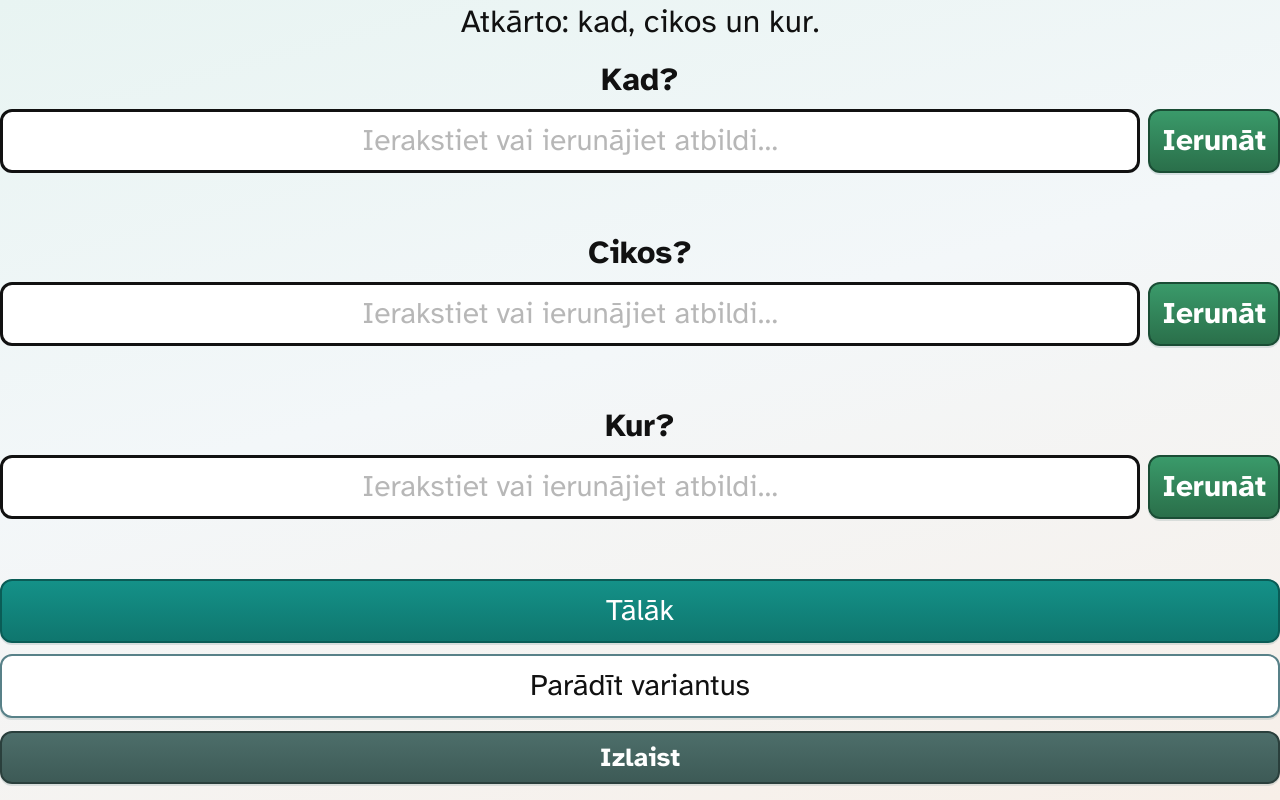
Test case: memory appointment answers › shows the expected answers after Pārbaudīt on the first recall
The image size is (1280, 800).
In the field labelled "Kad?": (570, 141) [0,109,1140,173], type "Otrdien"
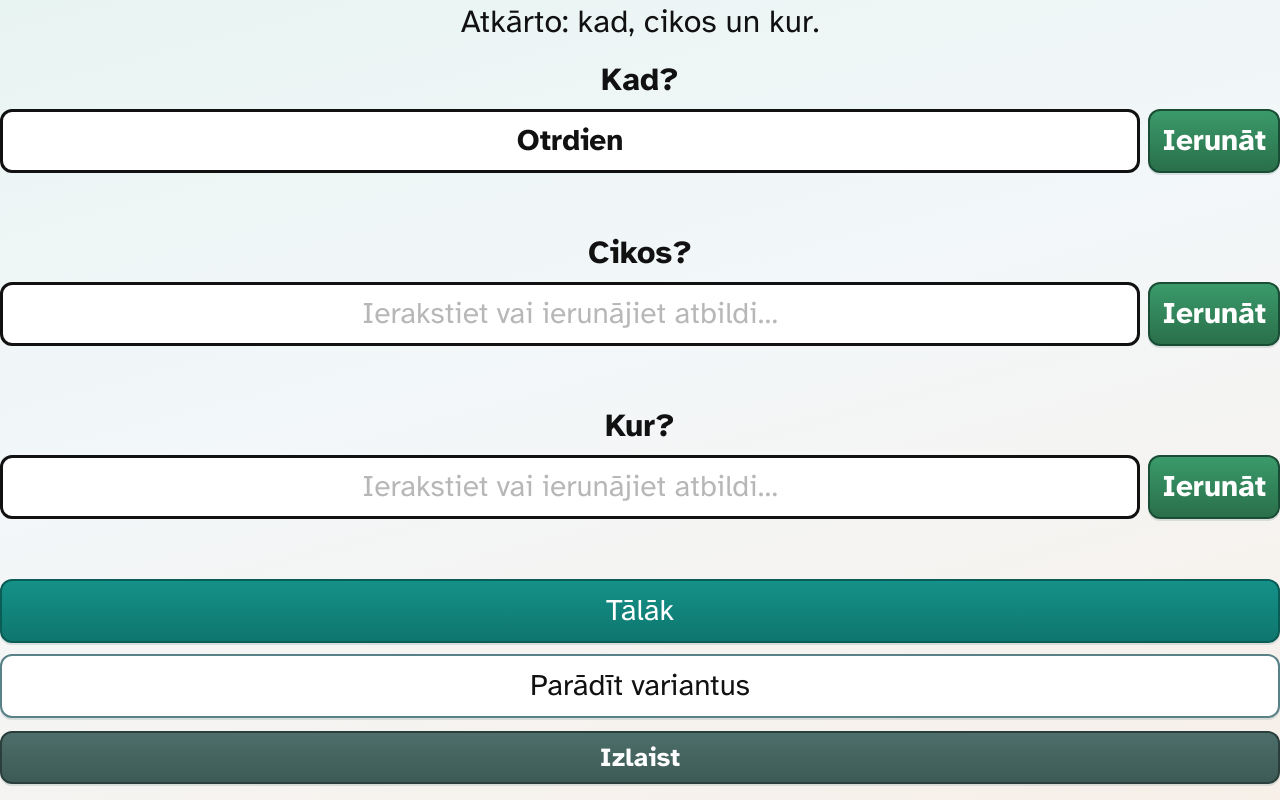
In the field labelled "Cikos?": (570, 314) [0,282,1140,346], type "10:00"
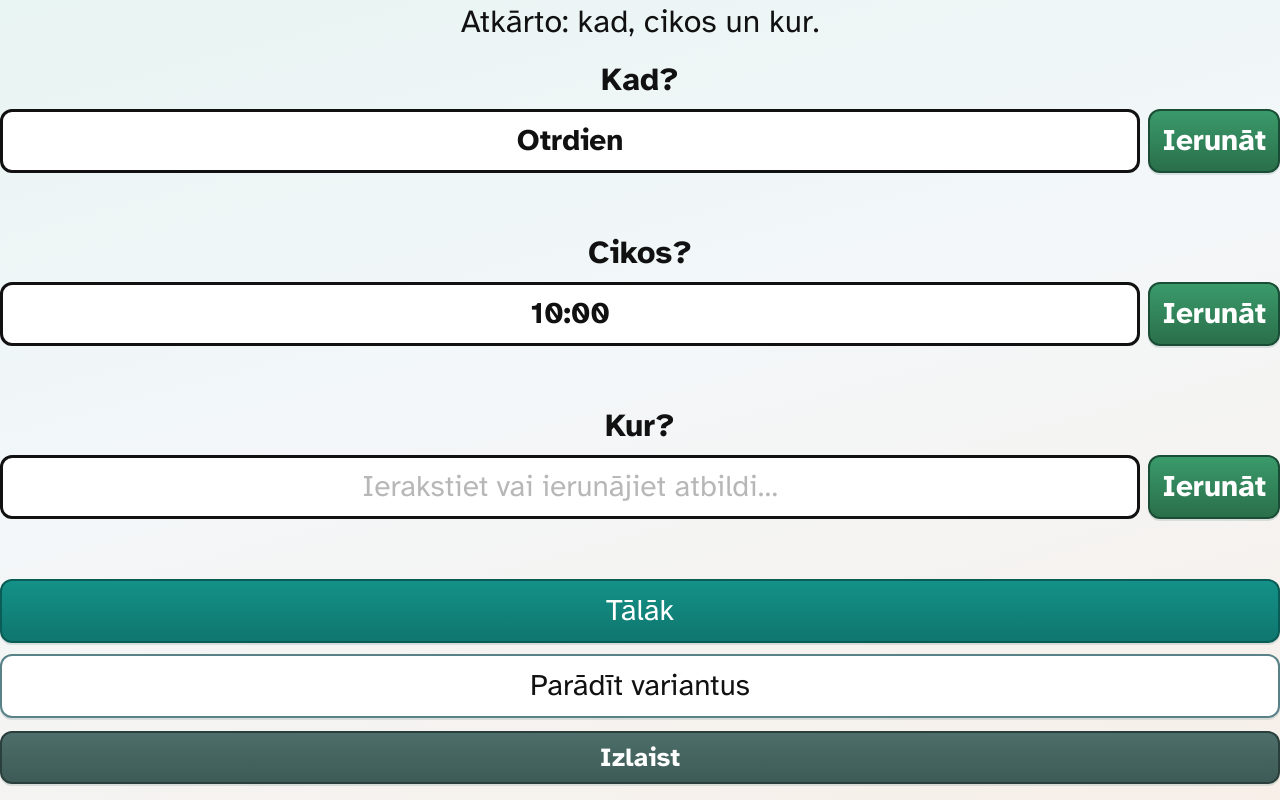
In the field labelled "Kur?": (570, 487) [0,455,1140,519], type "bibliotēkā"
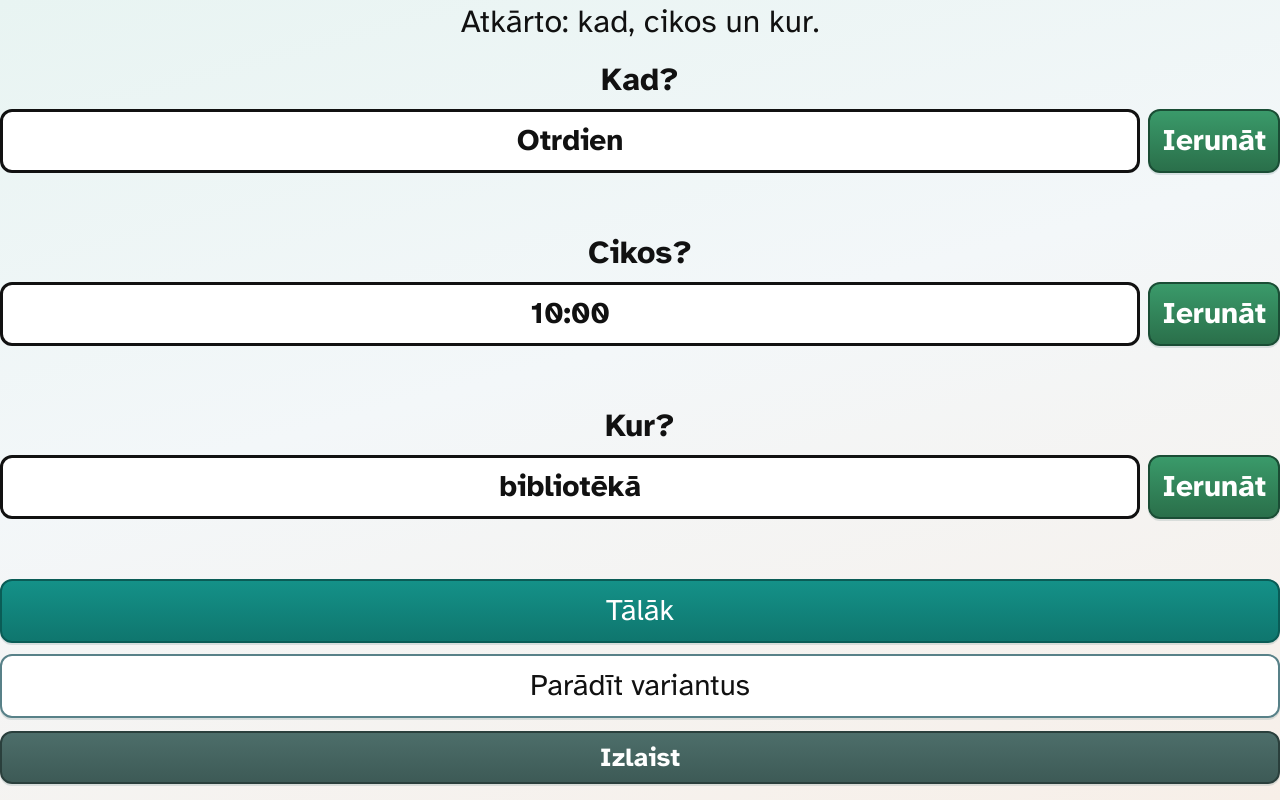
Focus the field labelled "Kur?": (570, 487) [0,455,1140,519]
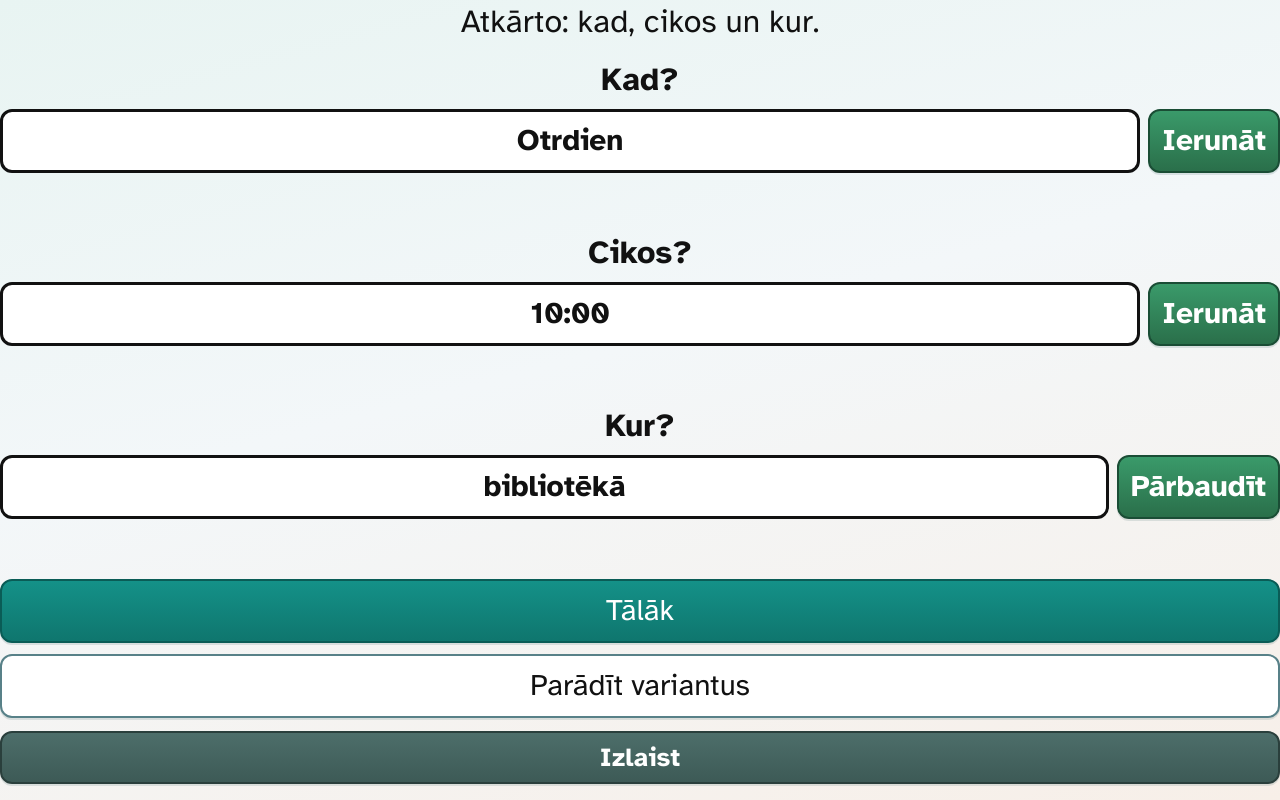
Click the button with aria-label "Pārbaudīt atbildi": (1198, 487) [1117,455,1279,519]
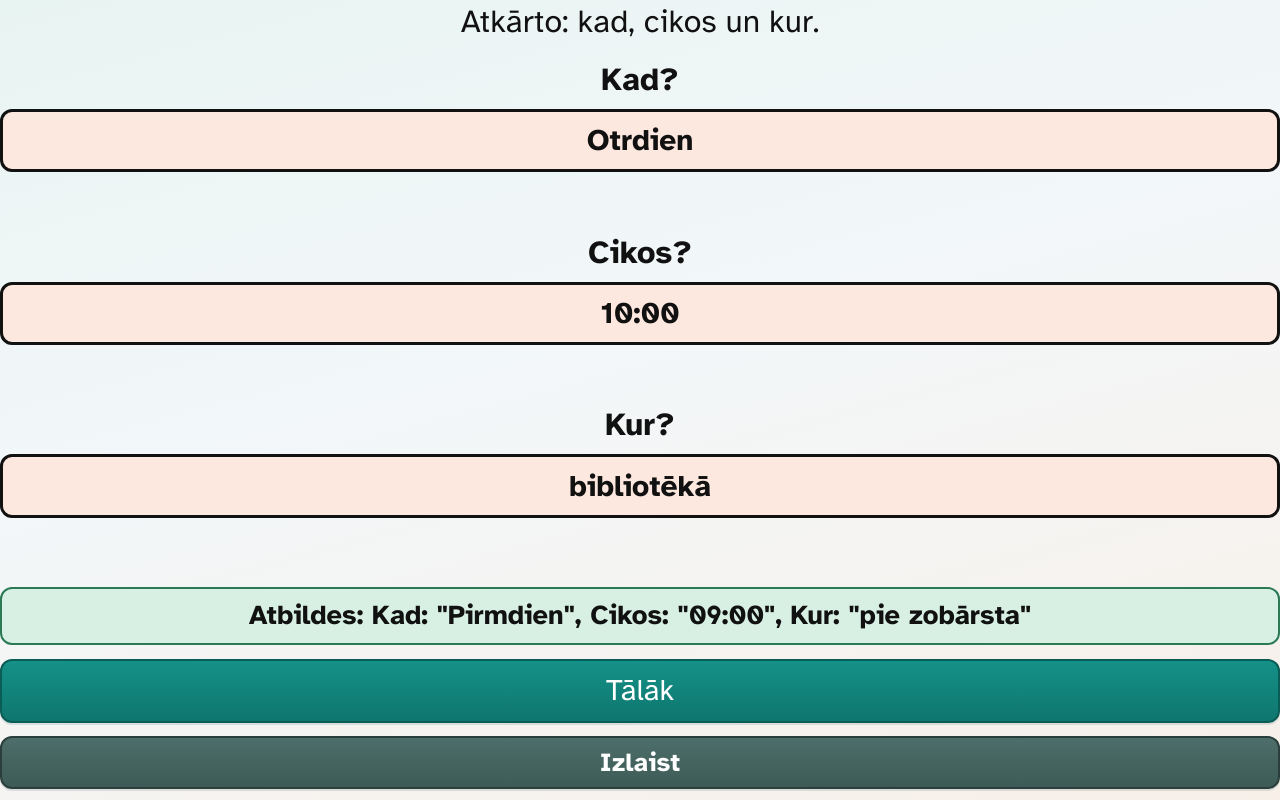
Expected: the text "Atbildes: Kad: \"Pirmdien\", Cikos: \"09:00\", Kur: \"pie zobārsta\"" is shown, [0,586,1279,645]
